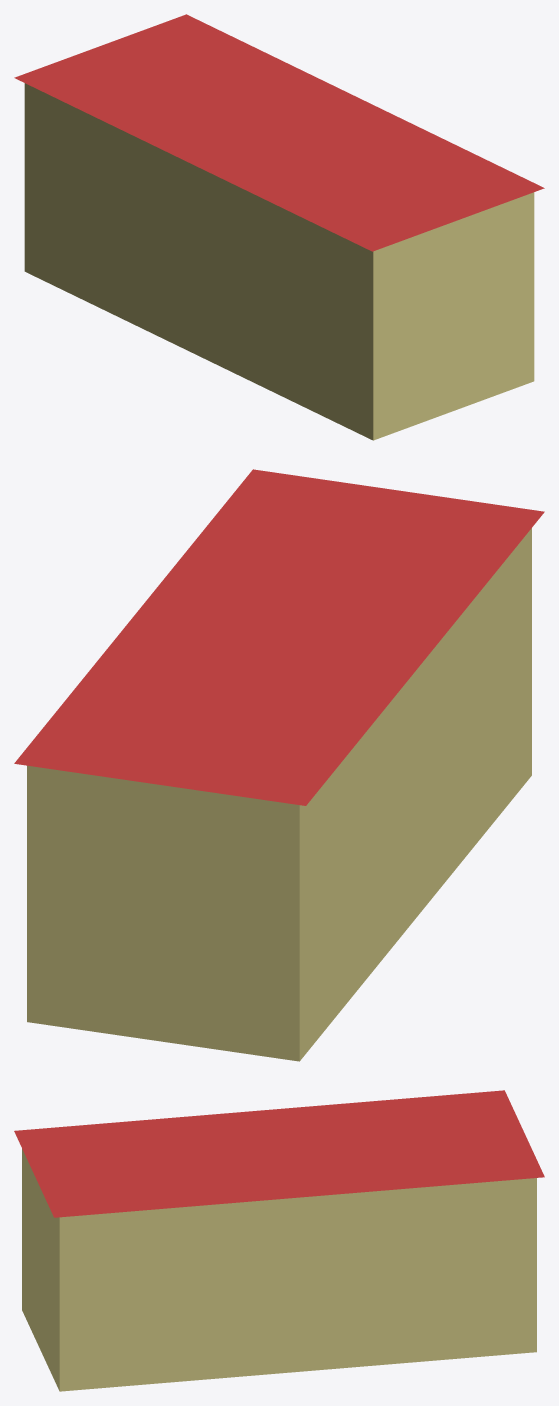
3 renders of one model, top to bottom at view 1: azimuth 30°, elevation 25°; view 2: azimuth 150°, elevation 25°; view 3: azimuth 270°, elevation 25°, orthographic. The views are drawn at different scales.
Size of the model in its own units: 10.93 by 19.23 by 7.08.
